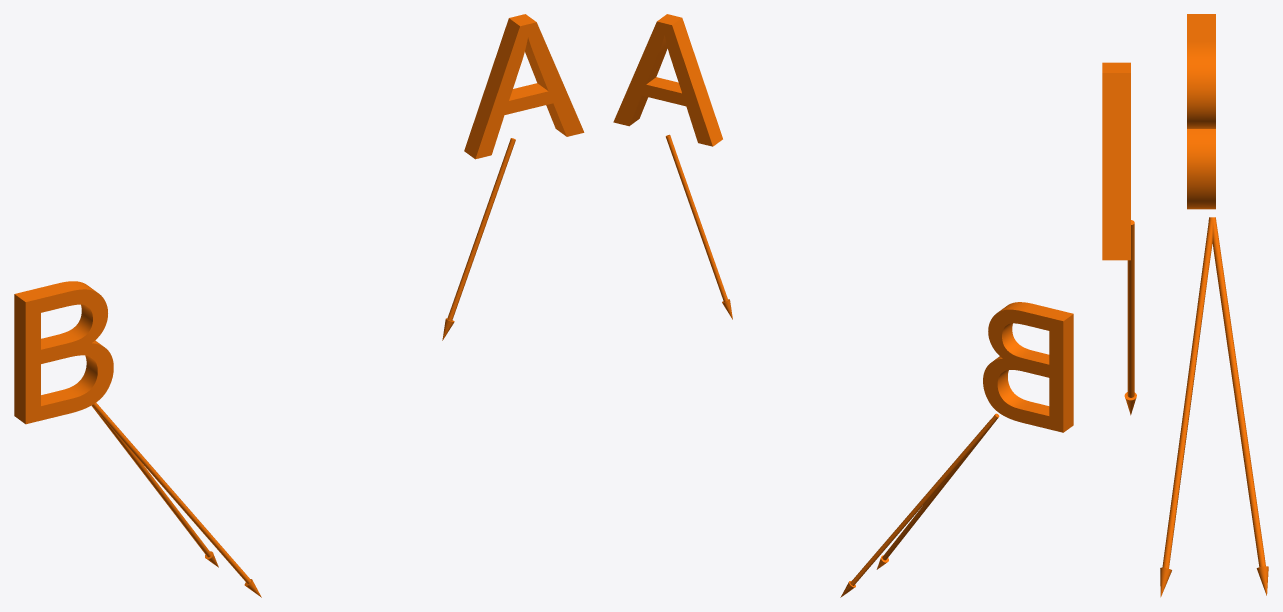
Rendered from 21arrow.glb.
3 views of the same model, side by side, from view 1: azimuth 30°, elevation 25°; view 2: azimuth 150°, elevation 25°; view 3: azimuth 270°, elevation 25° (orthographic). The views are drawn at different scales.
Parts seen in each view (by area): view 1: Node; view 2: Node; view 3: Node.
Part boxes in pixels (x1=…): Node: x1=14, y1=14, x2=584, y2=597; Node: x1=613, y1=14, x2=1073, y2=597; Node: x1=1102, y1=14, x2=1268, y2=597.
Bounding box in the file's own units: 6.75 × 6.52 × 1.44.
